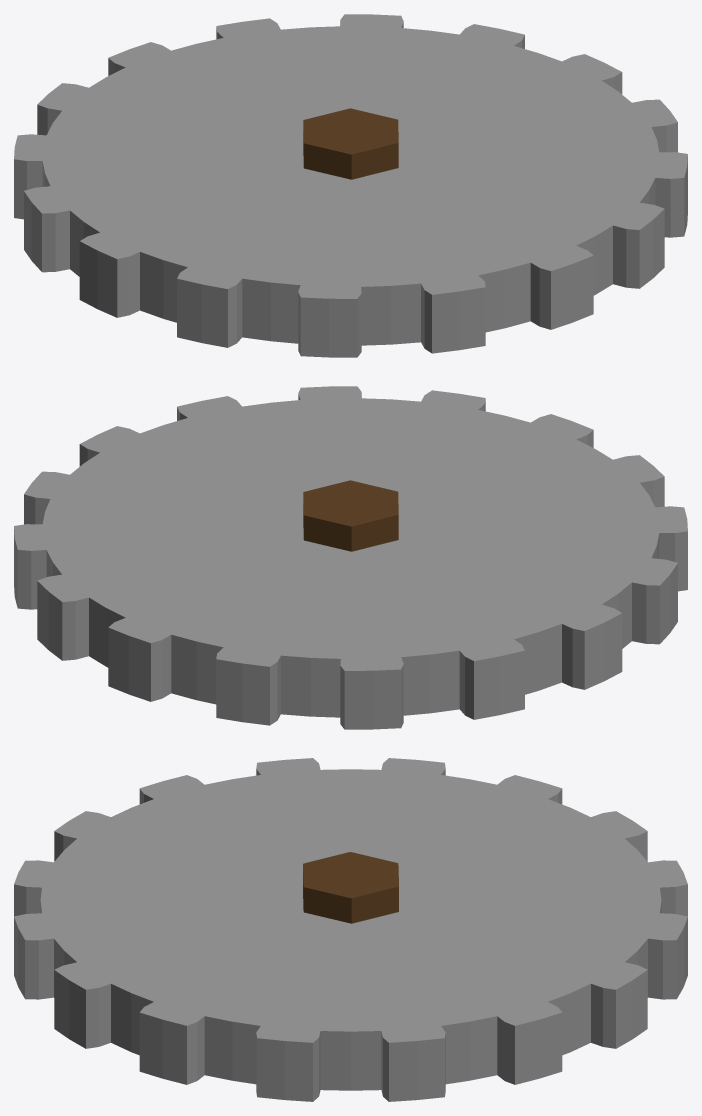
The model's file is Gear 5m 16t  center-bolted.fbx.
3 renders of one model, top to bottom at view 1: azimuth 30°, elevation 25°; view 2: azimuth 150°, elevation 25°; view 3: azimuth 270°, elevation 25°, orthographic.
Visible parts, largest first — view 1: Gear.005; view 2: Gear.005; view 3: Gear.005.
Boxes of the visible parts, x1=… form: Gear.005: x1=14, y1=14, x2=687, y2=357; Gear.005: x1=14, y1=386, x2=687, y2=729; Gear.005: x1=14, y1=758, x2=687, y2=1101.
Size of the model in its own units: 10.33 by 1.43 by 10.33.
